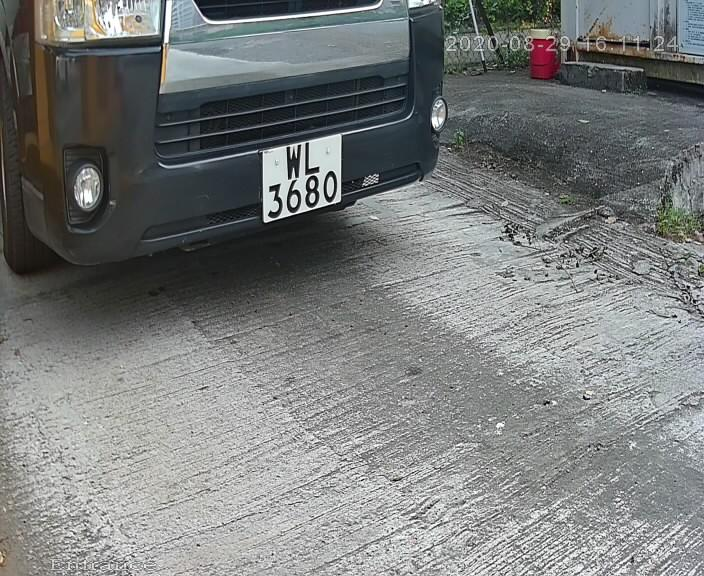License Plate: (252, 129, 356, 227)
